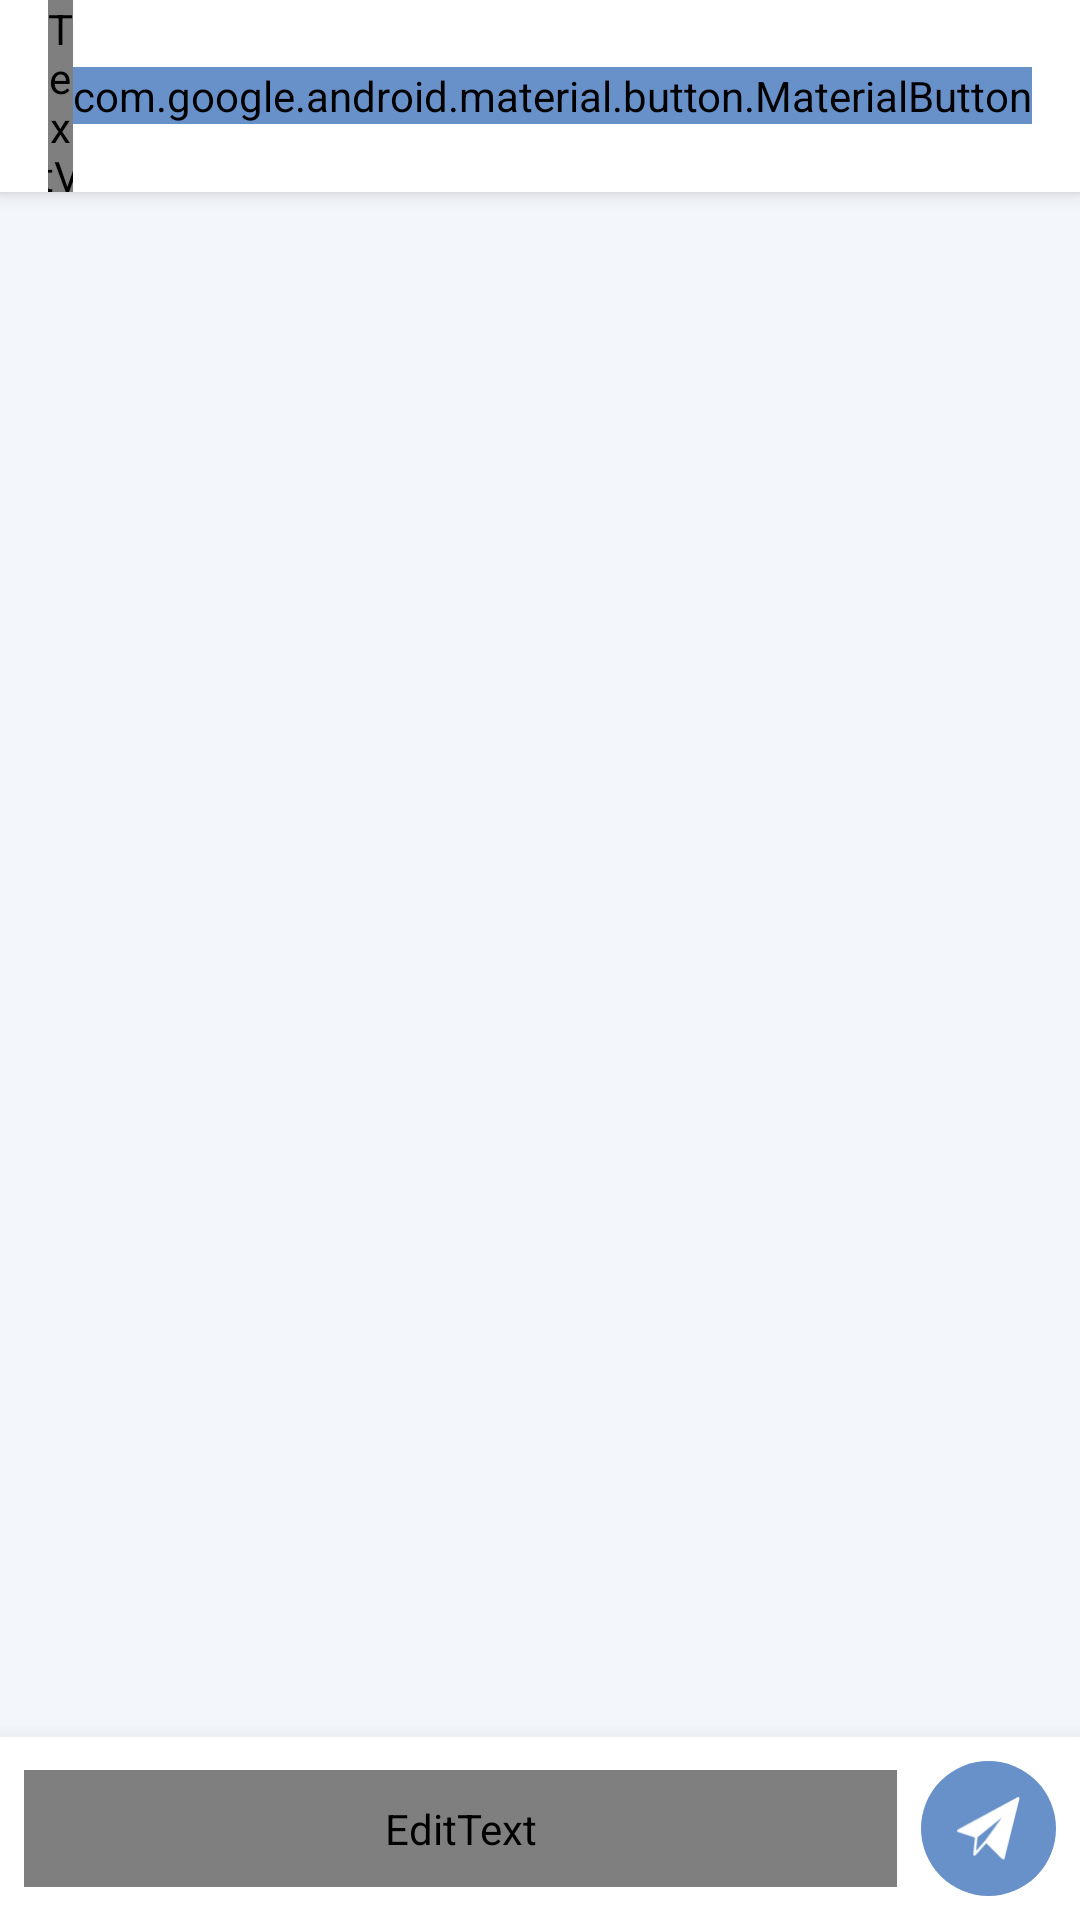

Where to tap for icons on this 1080*1920 app screen, as (x,y):
Kirim Pesan: (988,1828)
